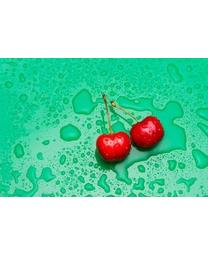cherry: (96, 131, 132, 164), (131, 116, 163, 151)
